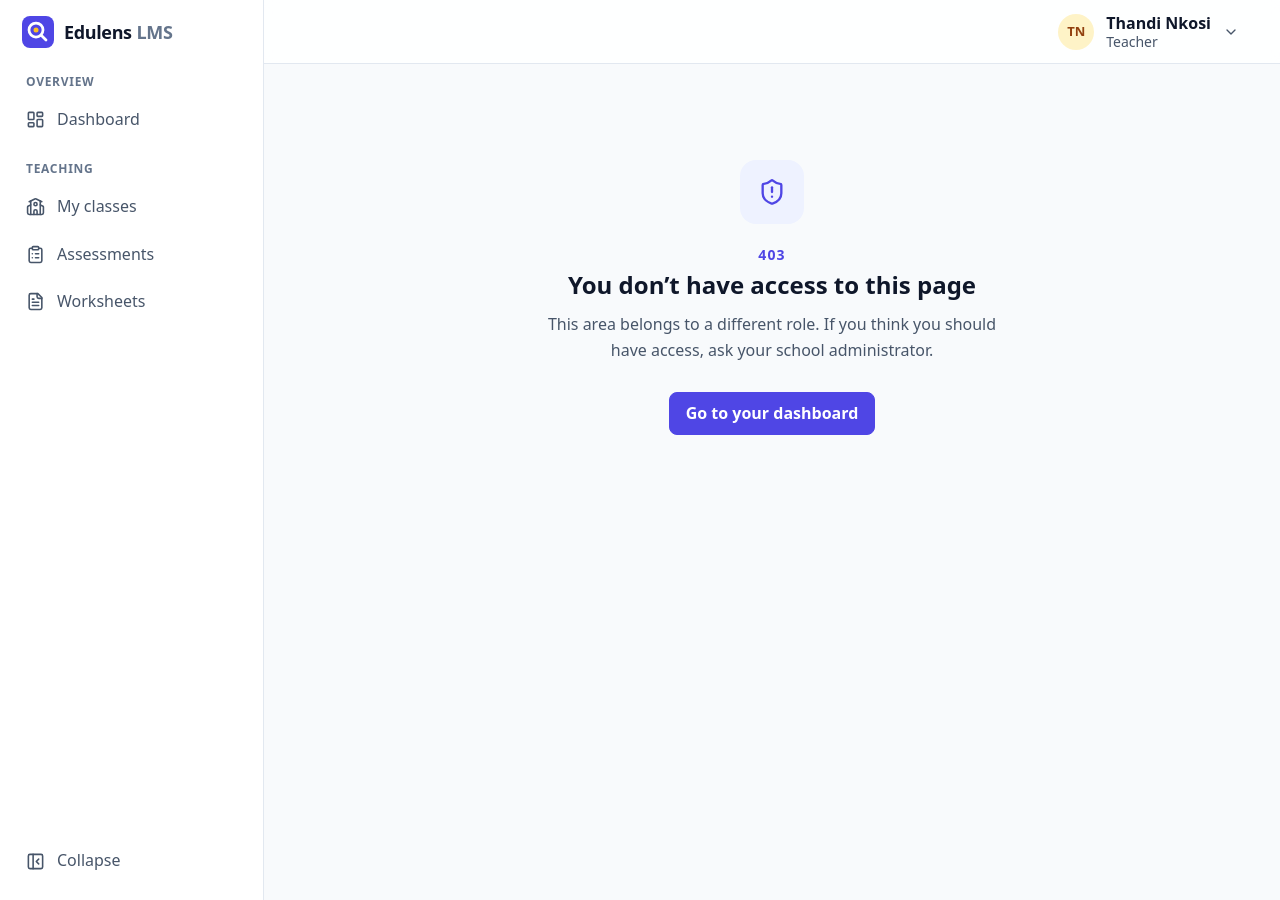
it: sign in › signs out from the account menu
Click the button with aria-label "account menu" at x=1151, y=32, box top-left (1053, 8), bottom-right (1248, 55)
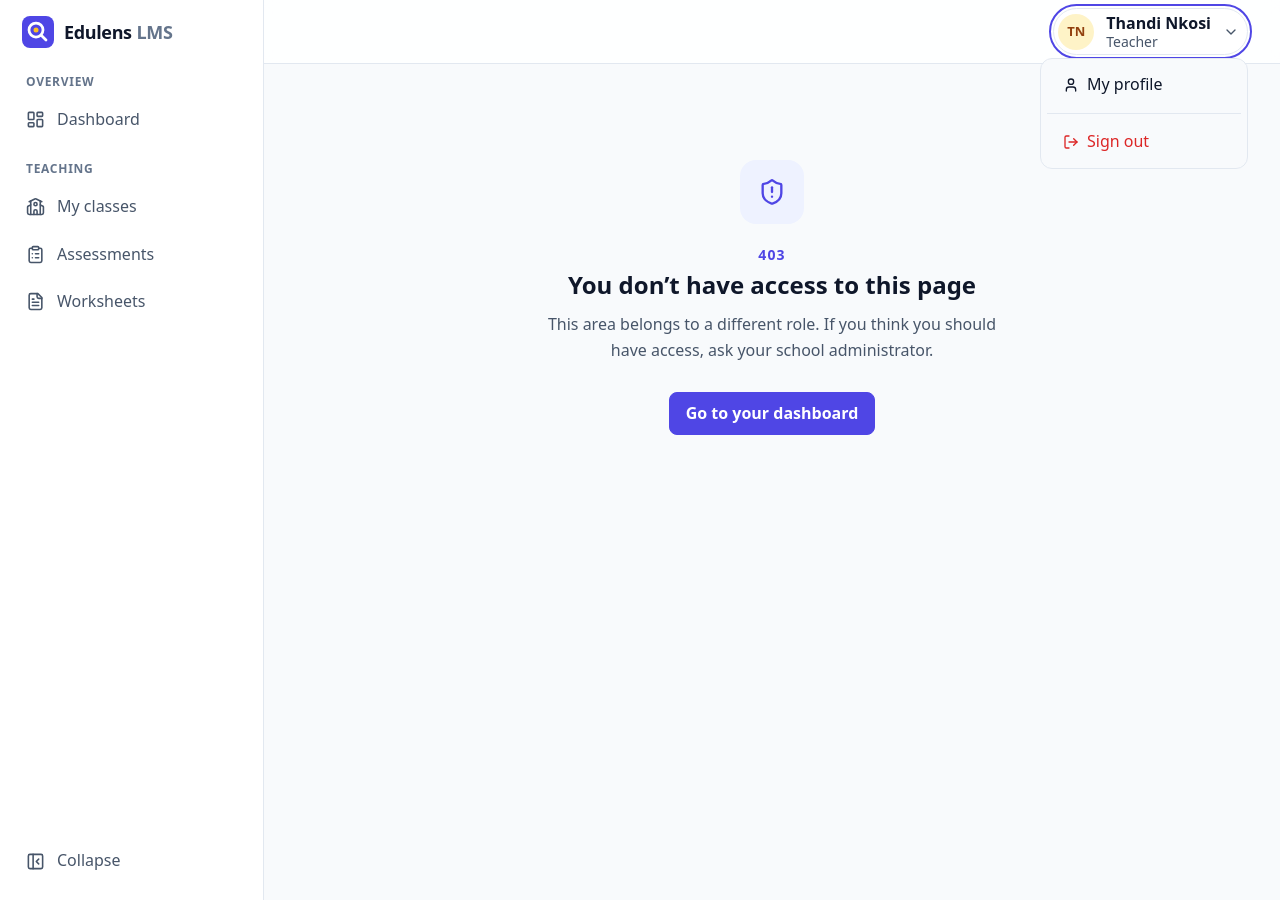
Click the button "Sign out" at x=1144, y=142, box top-left (1047, 122), bottom-right (1241, 162)
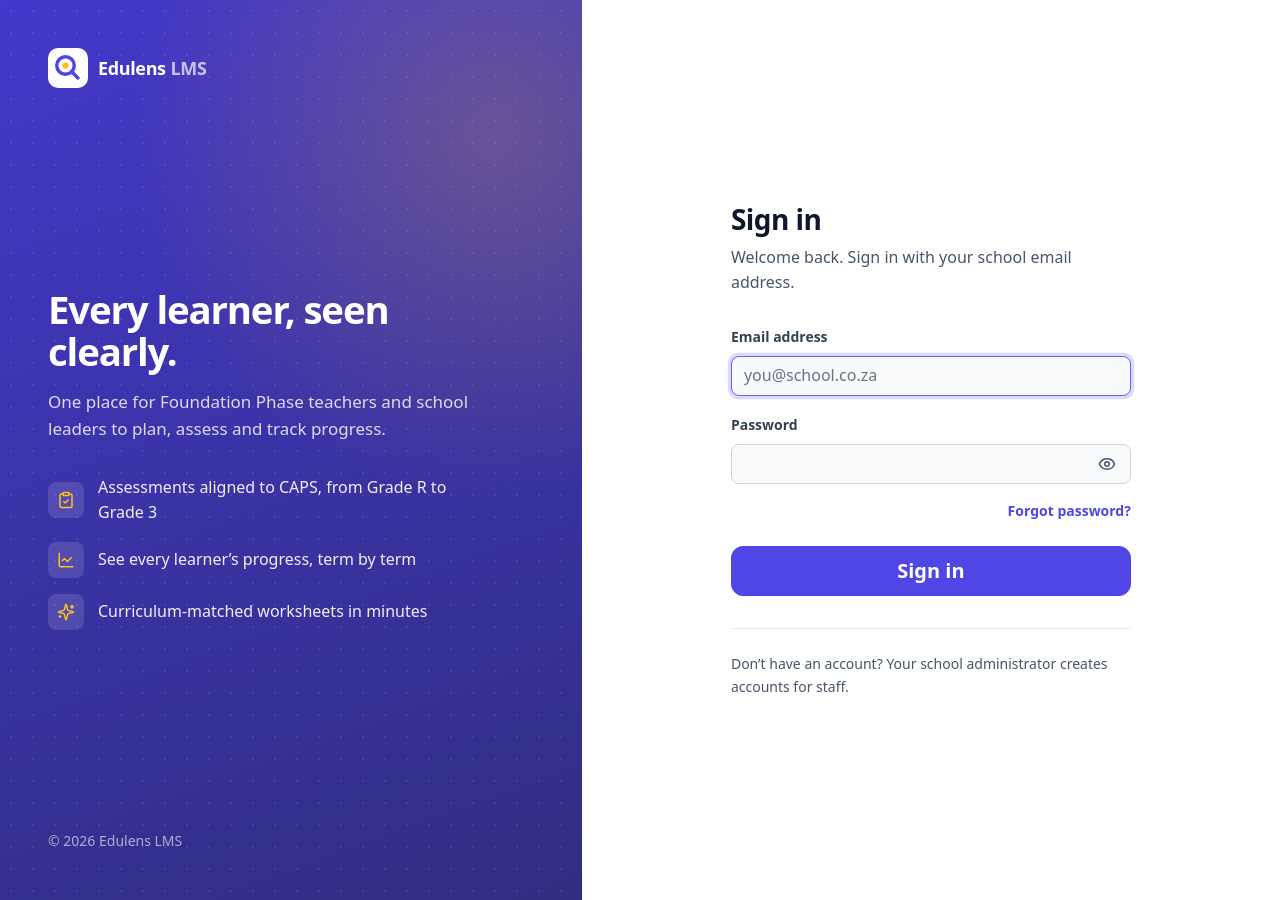
Expected: the heading "Sign in" is shown, top-left (731, 200), bottom-right (821, 238)
